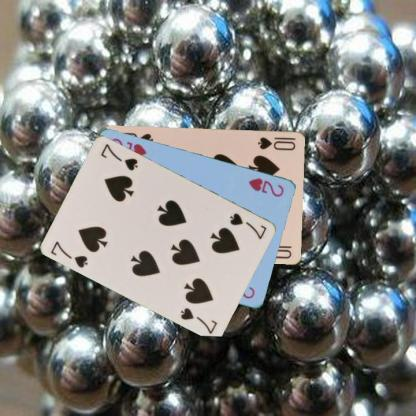10s: (255, 134, 297, 151)
2h: (245, 175, 286, 198)
7s: (48, 238, 90, 269), (227, 210, 268, 241)
